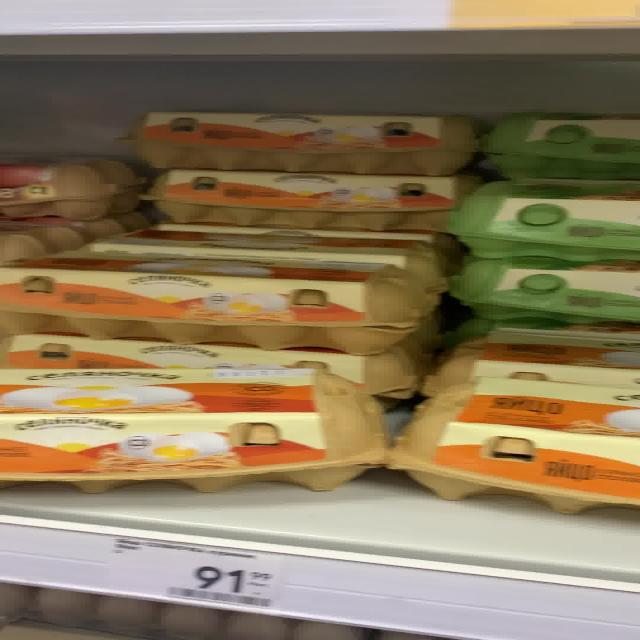egg box: (0, 364, 389, 493), (0, 252, 415, 355), (130, 105, 471, 177), (142, 170, 462, 236)
